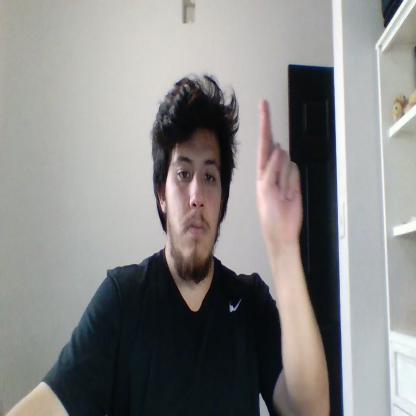R: (256, 98, 303, 240)
